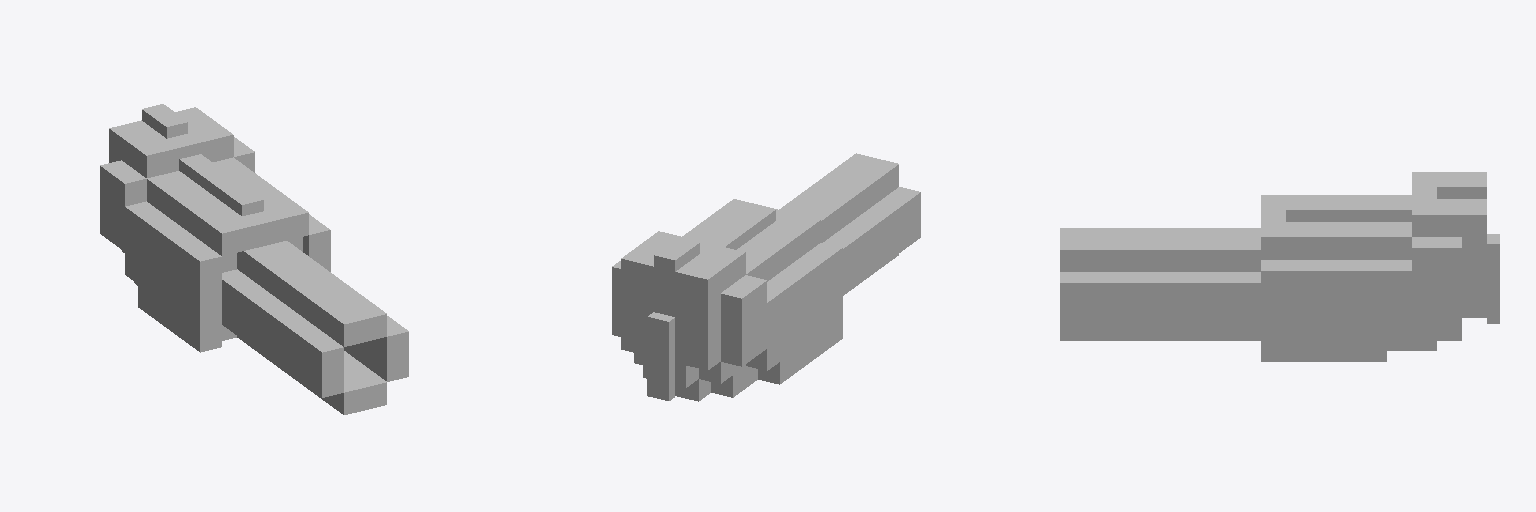
File: head.obj
3 renders of one model, left to right at view 1: azimuth 30°, elevation 25°; view 2: azimuth 150°, elevation 25°; view 3: azimuth 270°, elevation 25°, orthographic.
Parts seen in each view (by area): view 1: object 1; view 2: object 1; view 3: object 1.
Part boxes in pixels (bbox=[...]): object 1: bbox=[100, 104, 408, 414]; object 1: bbox=[612, 153, 920, 401]; object 1: bbox=[1060, 172, 1499, 361].
Size of the model in its own units: 1.2 by 1.3 by 3.5.